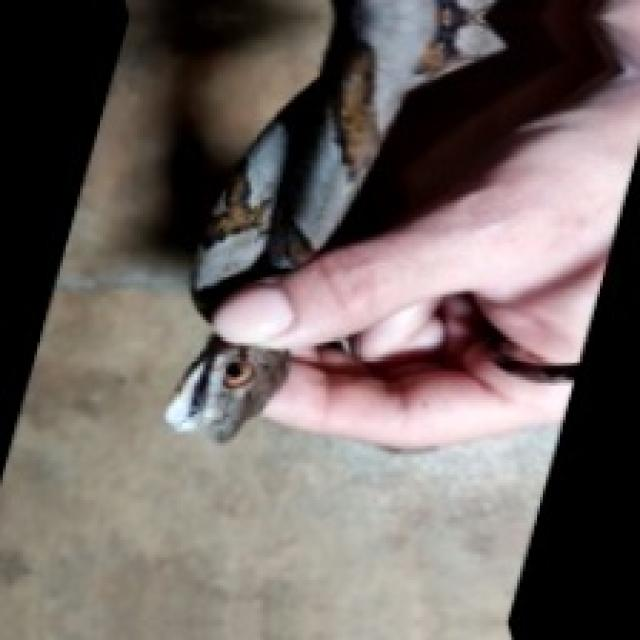dog-toothed cat snake: (191, 0, 504, 319), (165, 336, 286, 441)
